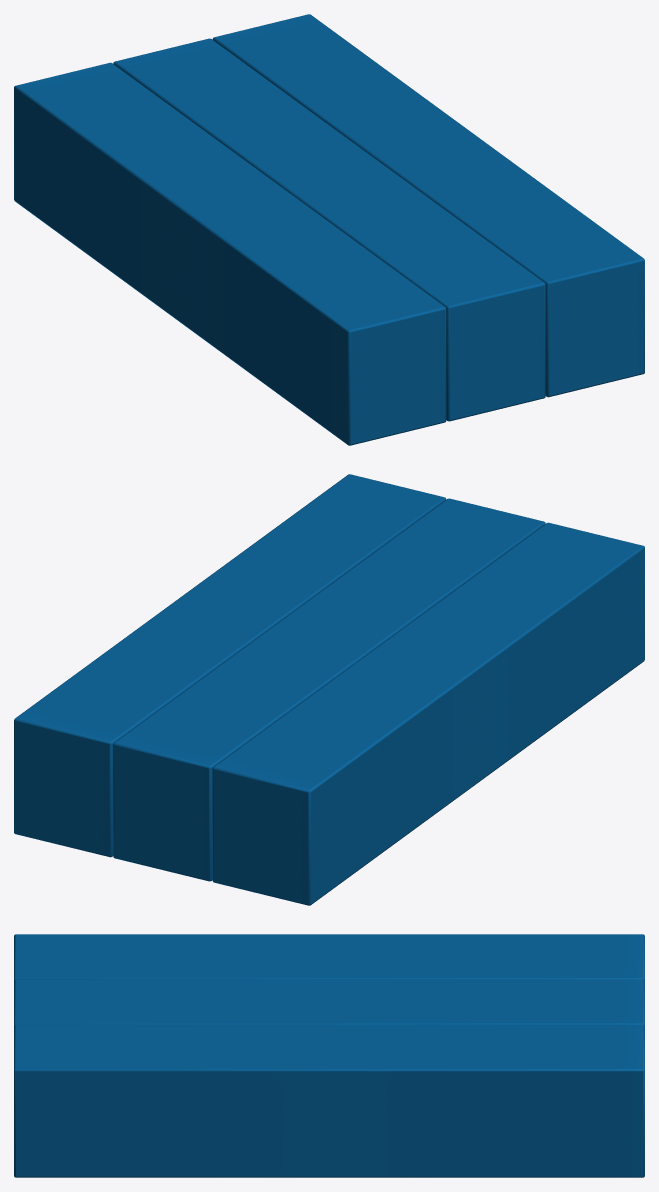
The model's file is 3-left-toy-leg-course-3.fbx.
3 views of the same model, one above another, from view 1: azimuth 30°, elevation 25°; view 2: azimuth 150°, elevation 25°; view 3: azimuth 270°, elevation 25° (orthographic). The views are drawn at different scales.
Parts seen in each view (by area): view 1: left-toy-leg-course-3; view 2: left-toy-leg-course-3; view 3: left-toy-leg-course-3.
Boxes of the visible parts, x1,y1,x2,y2 form: left-toy-leg-course-3: [14, 14, 644, 445]; left-toy-leg-course-3: [14, 474, 644, 905]; left-toy-leg-course-3: [14, 934, 644, 1177].
Size of the model in its own units: 4085 by 1520 by 8000.
1 material, 1 textured.
